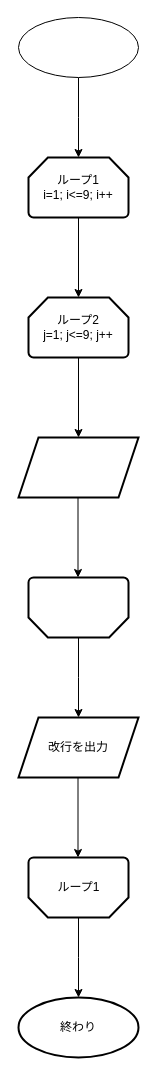
Image size: 156x1076. Some labels were removed from this diagram. Here are the shapes that lost their labels. From the top down, the box of each, then its label:
(18, 16, 138, 78): 始め
(17, 436, 139, 498): i × j を出力
(27, 576, 129, 638): ループ2
